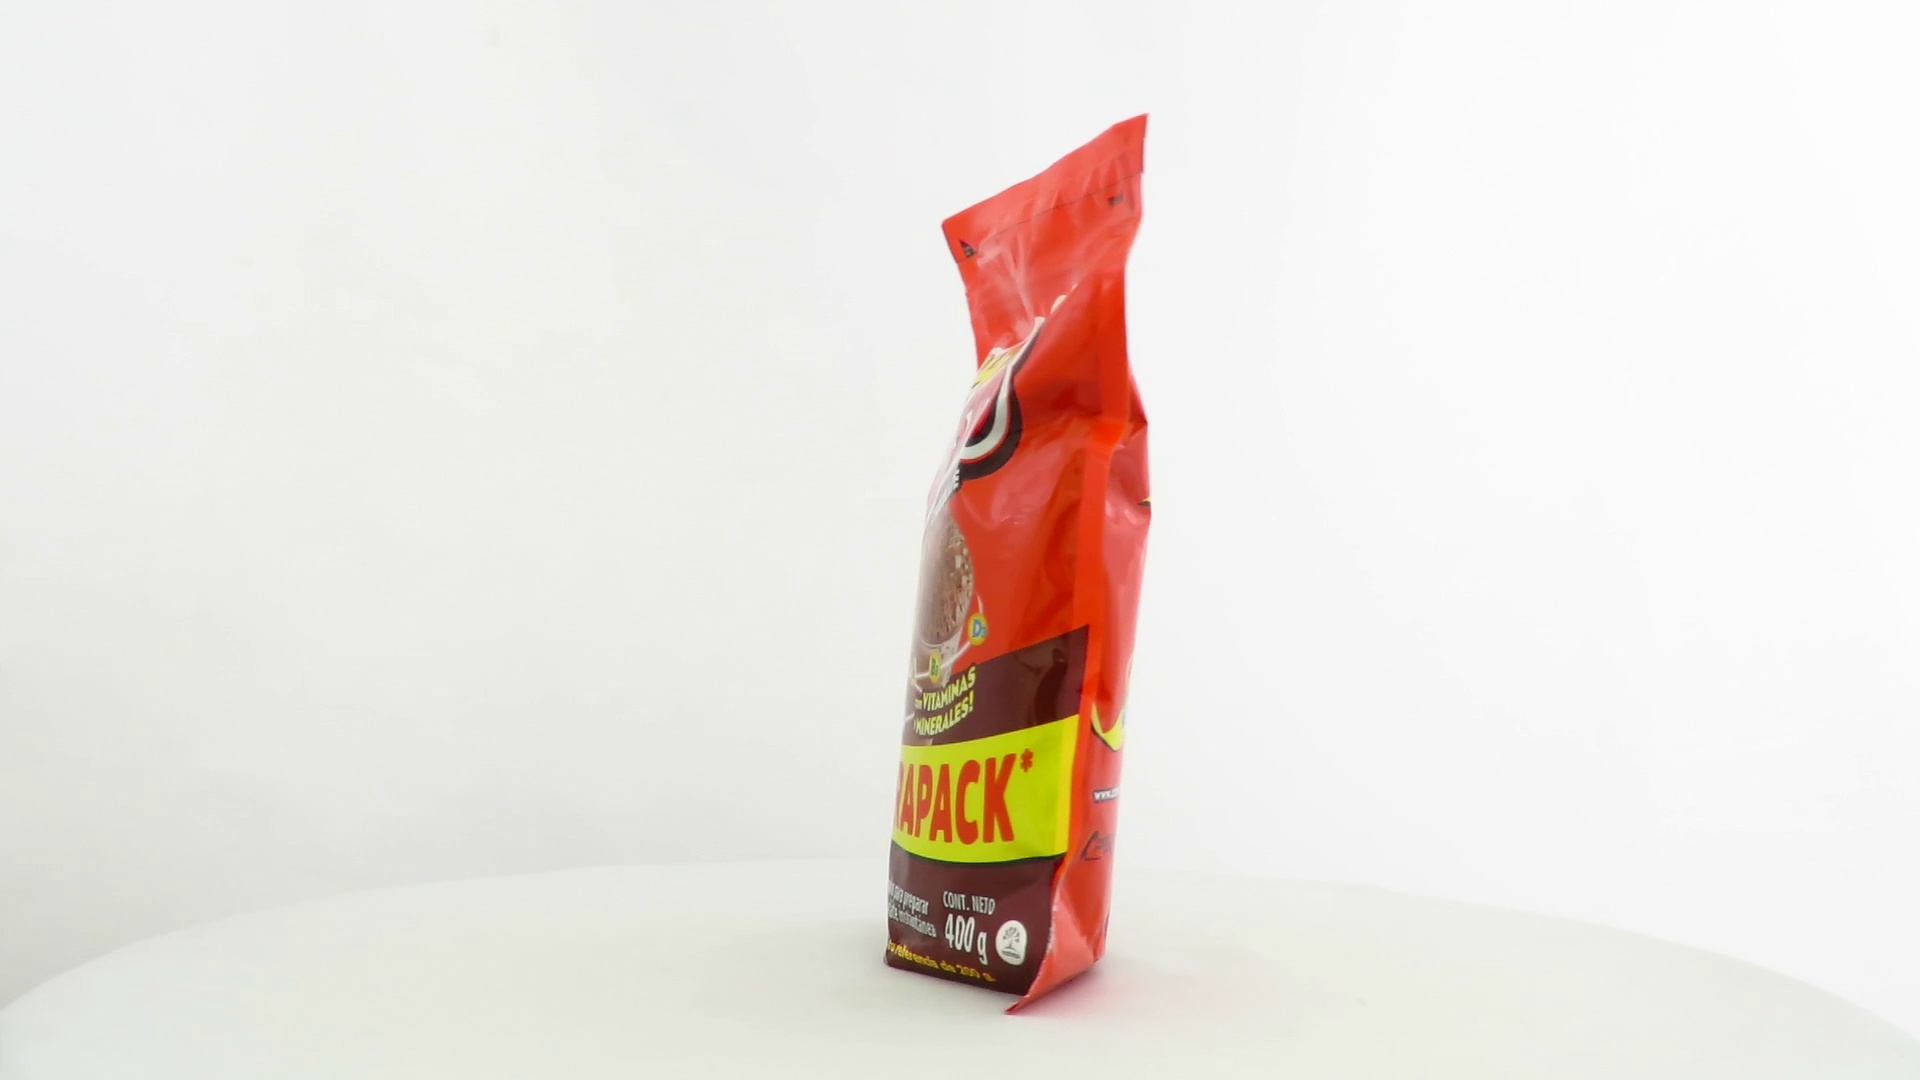COL0170103DYP40000: (878, 108, 1158, 1023)
